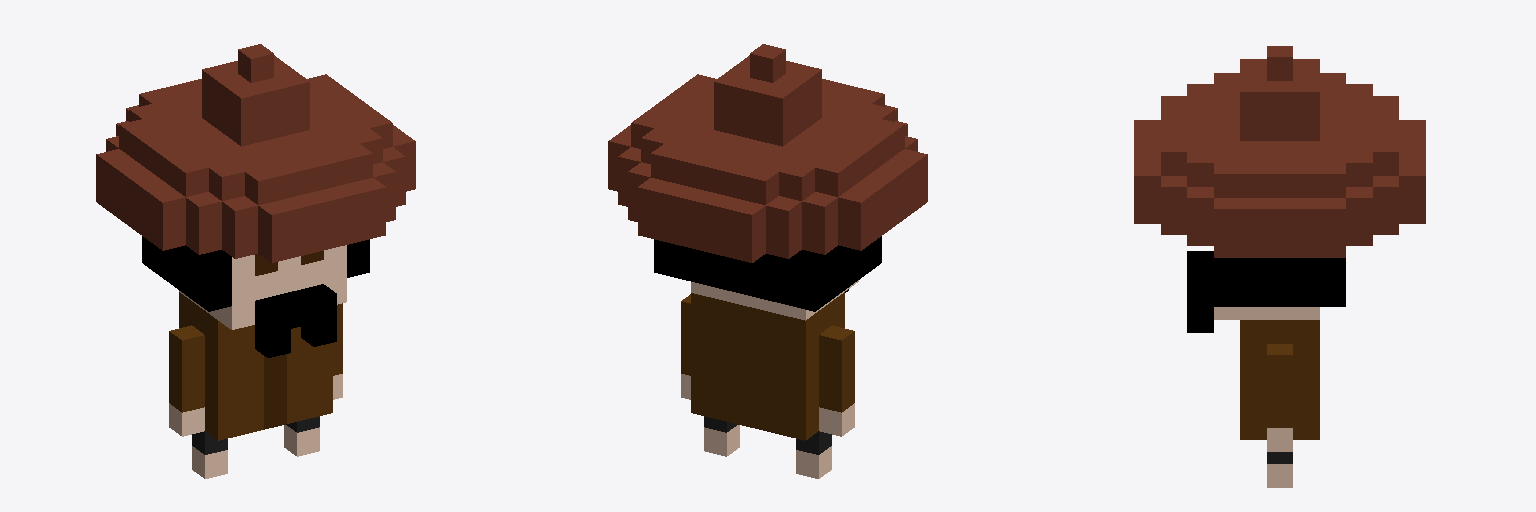
The picture shows the model from 3 angles: view 1: azimuth 30°, elevation 25°; view 2: azimuth 150°, elevation 25°; view 3: azimuth 270°, elevation 25°; orthographic projection.
Bounding box in the file's own units: 11 × 17 × 11.
1 materials, 1 textured.